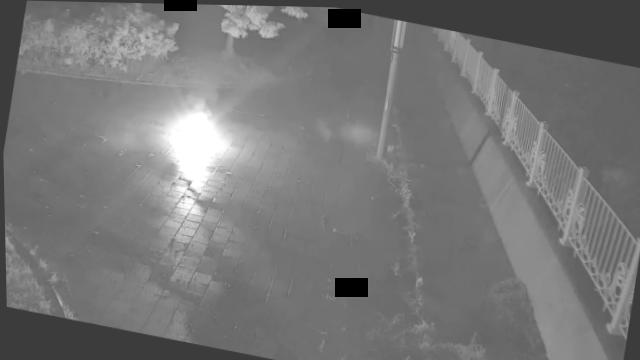fire: (153, 93, 237, 186)
